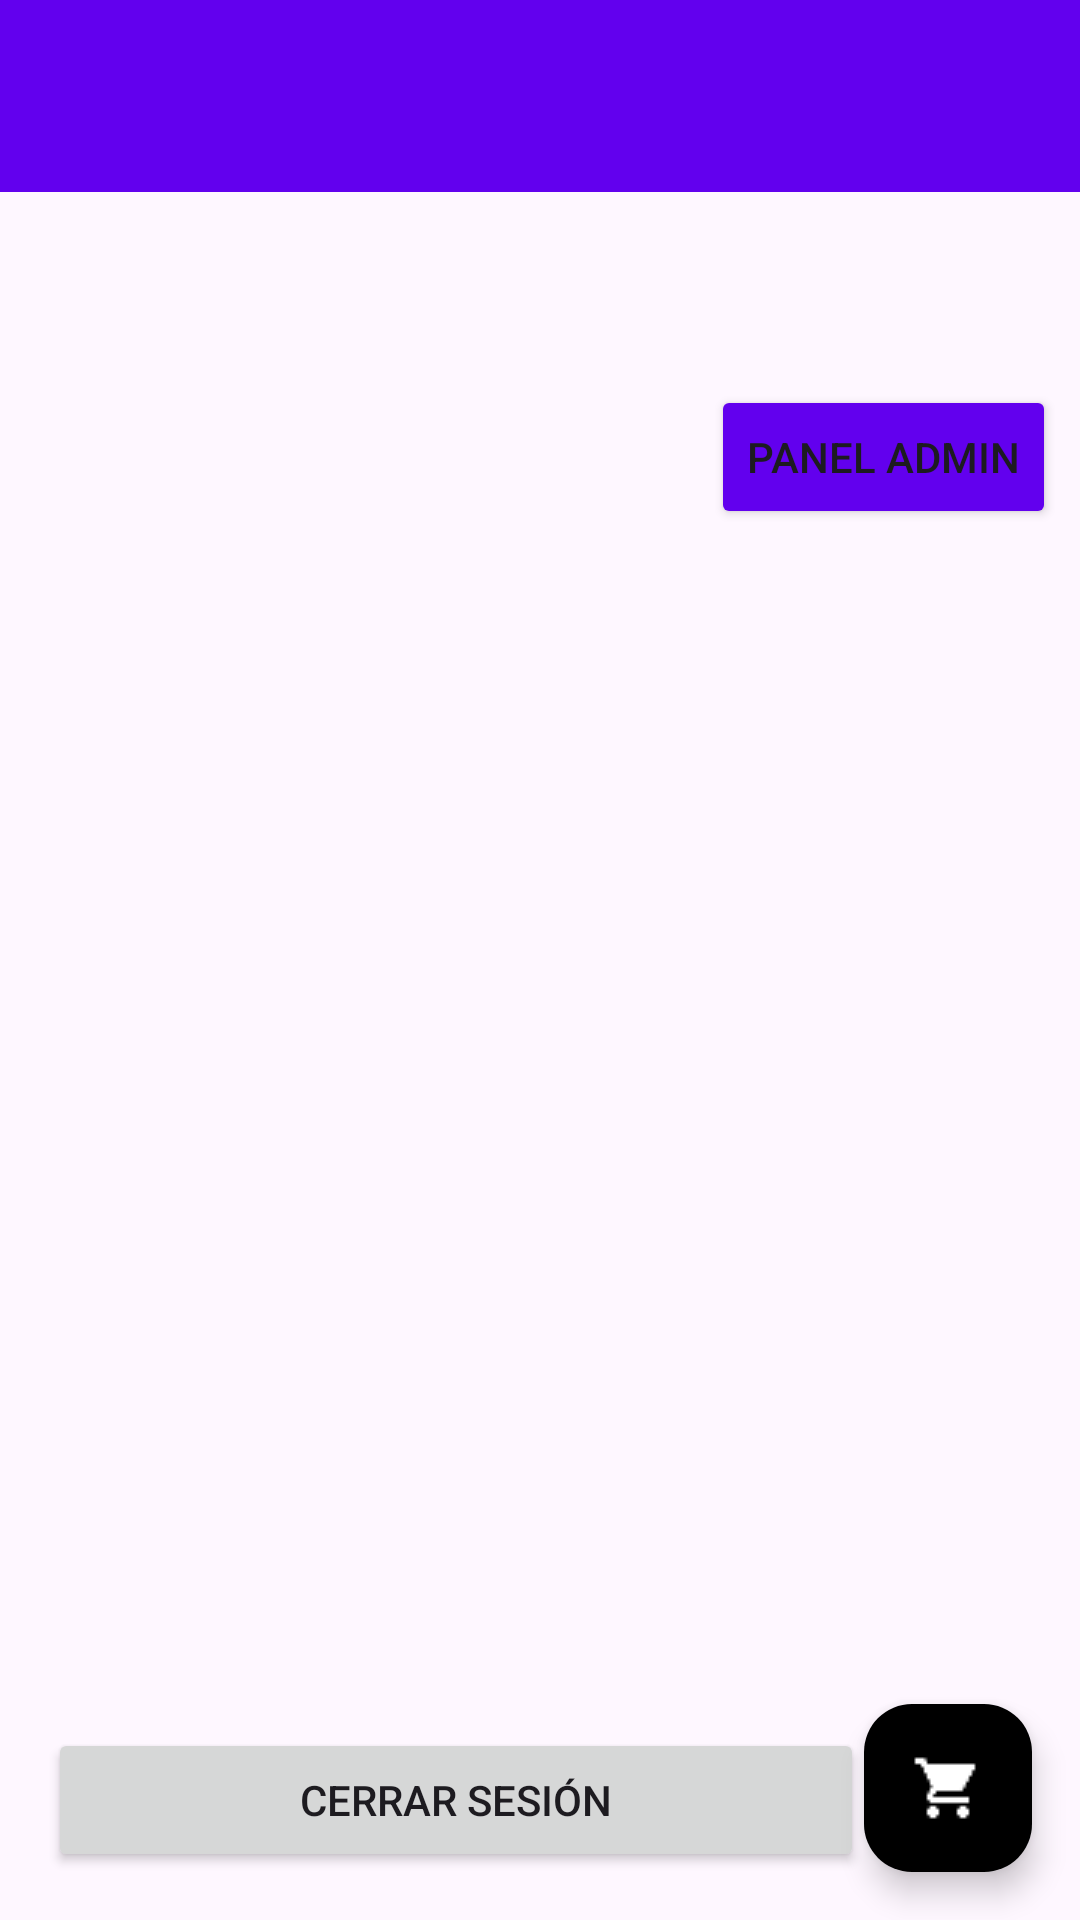

Icons on this 1080px×1920px Android screen, each with its box as region(x1, y1, x2, y2):
Carrito de compras: region(864, 1704, 1032, 1872)
